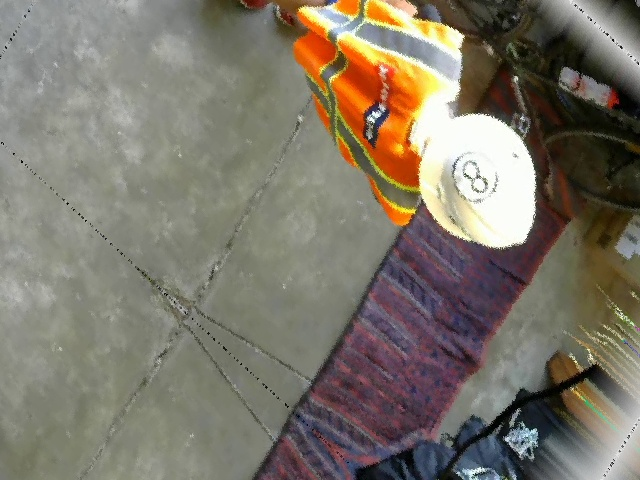eight: (443, 138, 507, 215)
